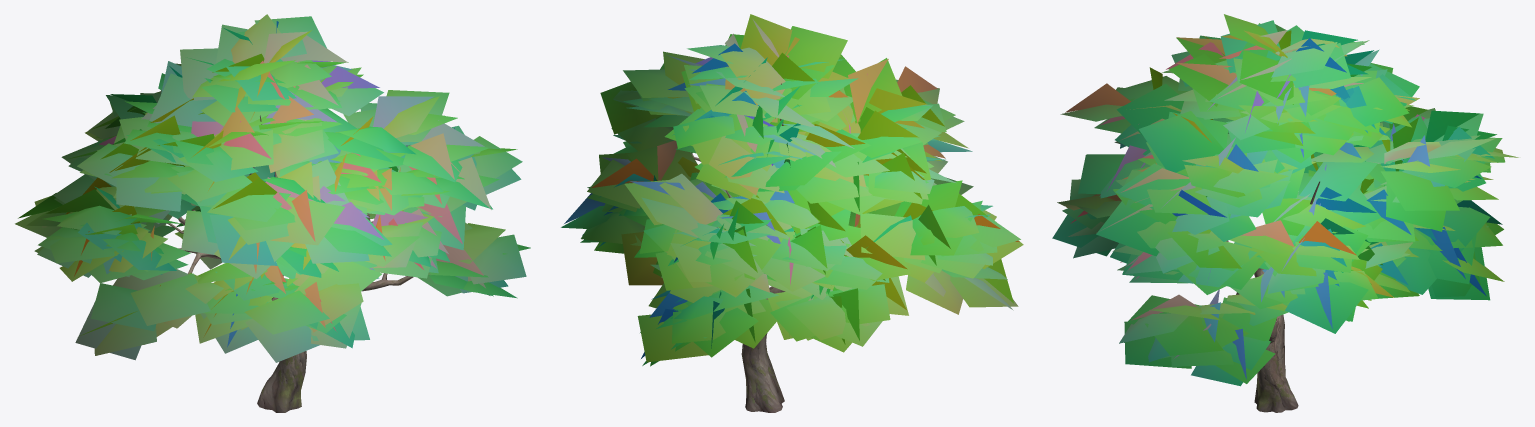
File: Homeworld_Exterior_Cyg_Plant_Tree_Fengshu_01_Lod0.fbx
The picture shows the model from 3 angles, left to right: view 1: azimuth 30°, elevation 25°; view 2: azimuth 150°, elevation 25°; view 3: azimuth 270°, elevation 25°; orthographic projection.
Parts seen in each view (by area): view 1: Area_Cyg_Tree_Common_Fs_01_02_Leaf_Lod0, Area_Cyg_Tree_Common_Fs_01_02_Bark_Lod0; view 2: Area_Cyg_Tree_Common_Fs_01_02_Leaf_Lod0, Area_Cyg_Tree_Common_Fs_01_02_Bark_Lod0; view 3: Area_Cyg_Tree_Common_Fs_01_02_Leaf_Lod0, Area_Cyg_Tree_Common_Fs_01_02_Bark_Lod0.
Boxes of the visible parts, box(x1,y1,x2,y2) form: Area_Cyg_Tree_Common_Fs_01_02_Leaf_Lod0: box(15, 14, 530, 362); Area_Cyg_Tree_Common_Fs_01_02_Bark_Lod0: box(167, 115, 413, 412); Area_Cyg_Tree_Common_Fs_01_02_Leaf_Lod0: box(561, 14, 1023, 366); Area_Cyg_Tree_Common_Fs_01_02_Bark_Lod0: box(690, 83, 785, 412); Area_Cyg_Tree_Common_Fs_01_02_Leaf_Lod0: box(1052, 14, 1518, 386); Area_Cyg_Tree_Common_Fs_01_02_Bark_Lod0: box(1226, 181, 1319, 412).
Size of the model in its own units: 20.14 by 16.42 by 18.28.
